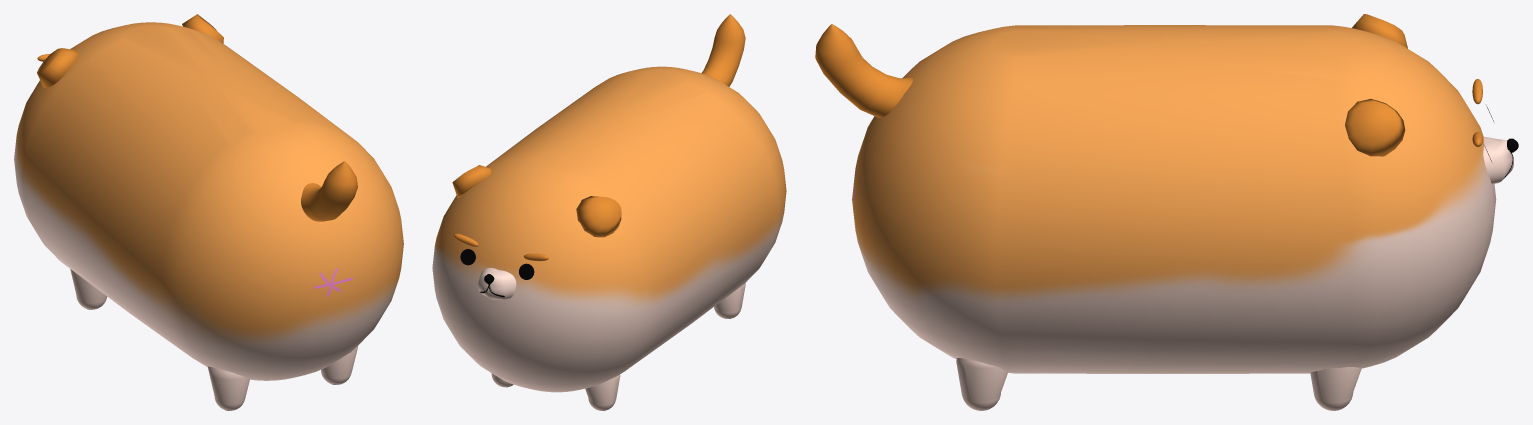
The model's file is Joe.fbx.
The picture shows the model from 3 angles, left to right: view 1: azimuth 30°, elevation 25°; view 2: azimuth 150°, elevation 25°; view 3: azimuth 270°, elevation 25°; orthographic projection. The views are drawn at different scales.
Visible parts, largest first — view 1: Body, Tail, Back_L, Ear_L, Front_L, Back_R, Ear_R; view 2: Body, Tail, Ear_L, Mouth, Front_L, Ear_R, Back_L; view 3: Body, Tail, Ear_R, Back_R, Front_R, Mouth, Ear_L.
Part boxes in pixels (<box>): Body: <box>14,22,403,380</box>; Tail: <box>301,161,357,221</box>; Back_L: <box>207,366,249,410</box>; Ear_L: <box>37,48,78,88</box>; Front_L: <box>70,269,107,309</box>; Back_R: <box>321,346,357,384</box>; Ear_R: <box>182,14,223,43</box>; Body: <box>432,66,786,392</box>; Tail: <box>701,14,745,86</box>; Ear_L: <box>576,196,621,237</box>; Mouth: <box>478,268,516,299</box>; Front_L: <box>585,374,620,410</box>; Ear_R: <box>452,165,491,197</box>; Back_L: <box>714,283,745,318</box>; Body: <box>852,25,1496,373</box>; Tail: <box>815,24,913,117</box>; Ear_R: <box>1345,99,1405,156</box>; Back_R: <box>956,358,1008,410</box>; Front_R: <box>1310,367,1361,410</box>; Mouth: <box>1483,136,1518,183</box>; Ear_L: <box>1352,14,1407,48</box>.
Size of the model in its own units: 200 by 224 by 403.
Materials: 6 (3 with a texture image).
